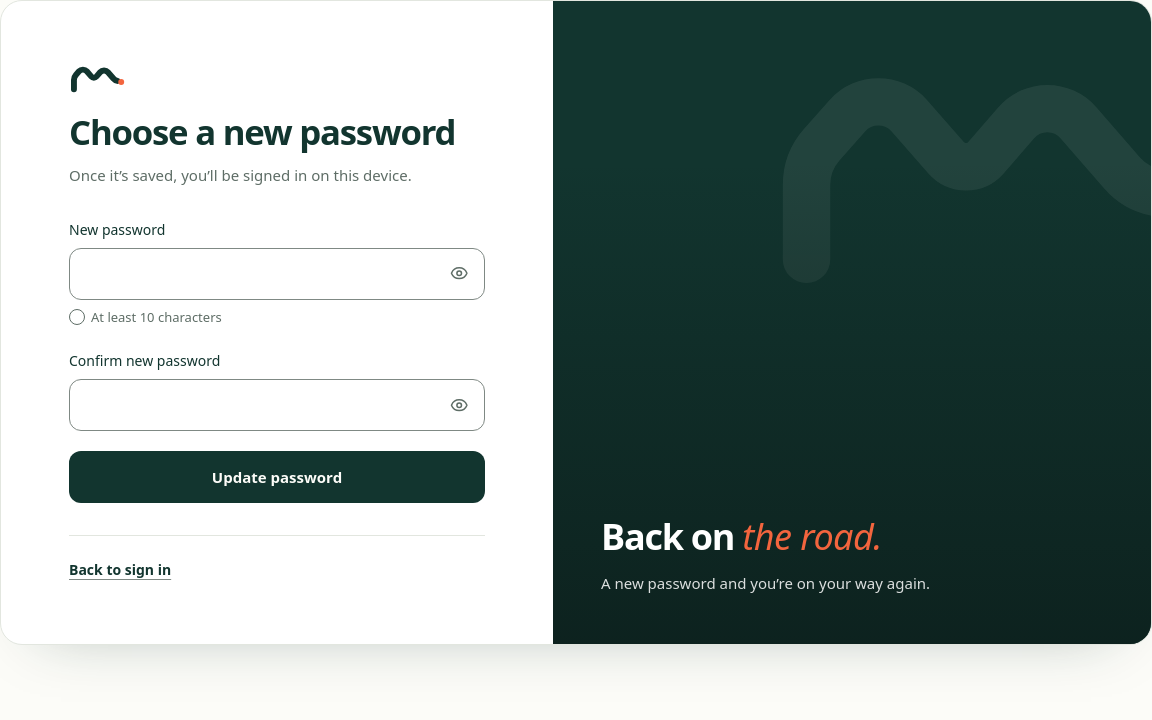
Test: recovery form › turns a rejected token into the expired-link state
Type "replacement-secret" into the password field labelled "New password". click: (277, 274)
box: [69,248,485,300]
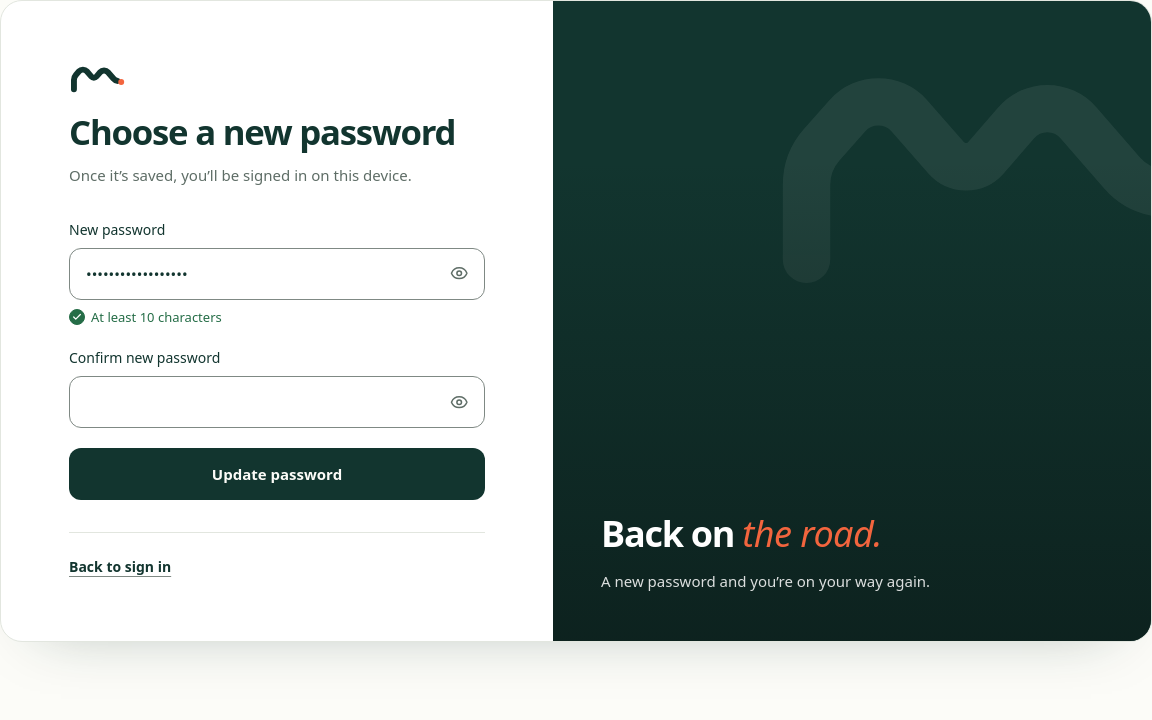
Type "replacement-secret" into the password field labelled "Confirm new password". click: (277, 402)
box: [69,376,485,428]
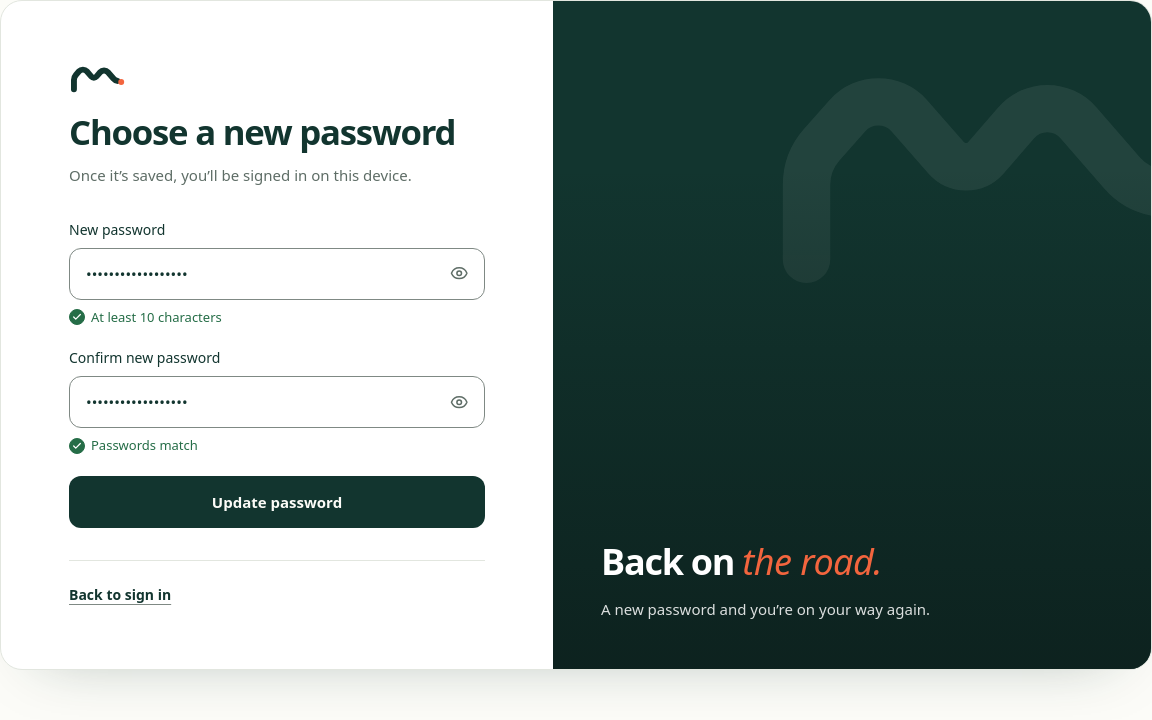
Click the button "Update password". click: (277, 502)
box: [69,476,485,528]
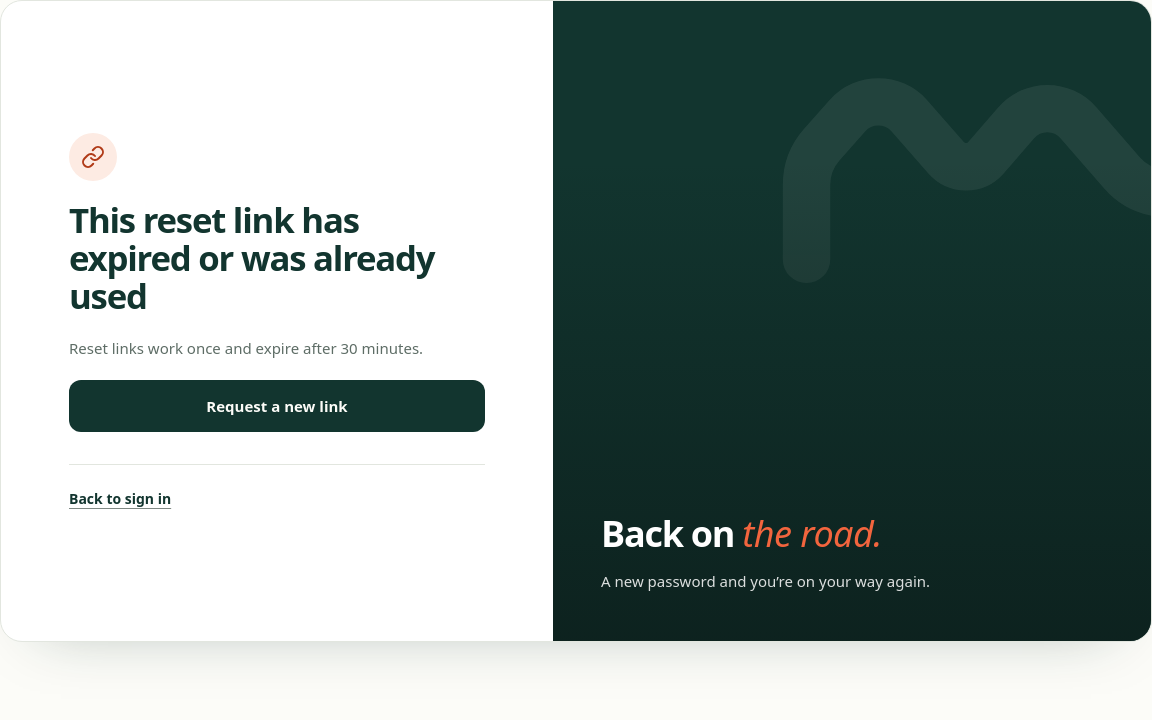
Expected: the heading "This reset link has expired or was already used" is shown, [69,201,485,316]
